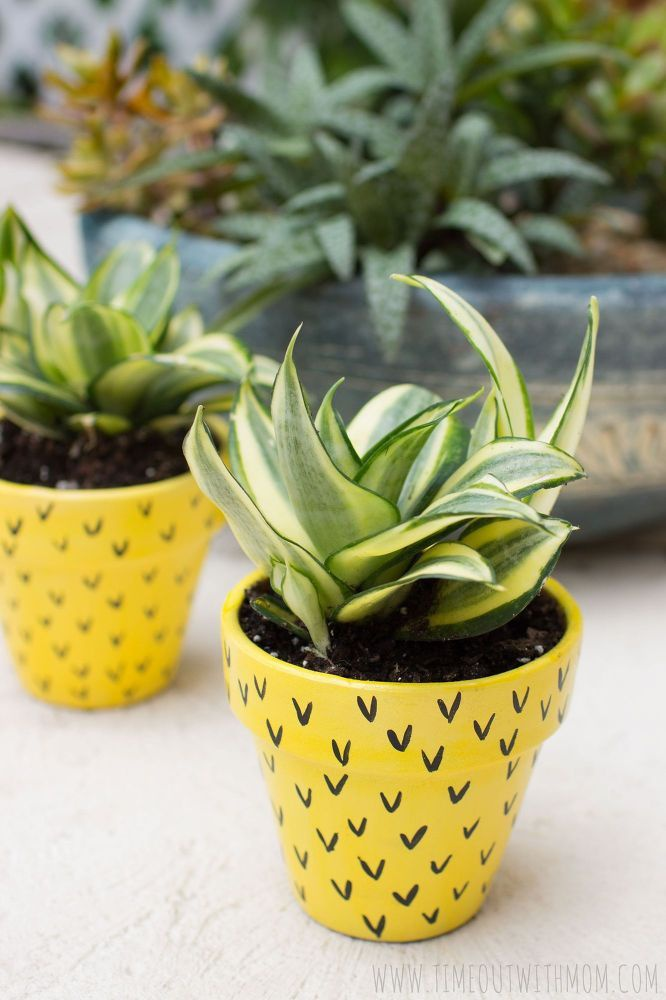flowerpot: (225, 570, 587, 943), (1, 454, 224, 725)
